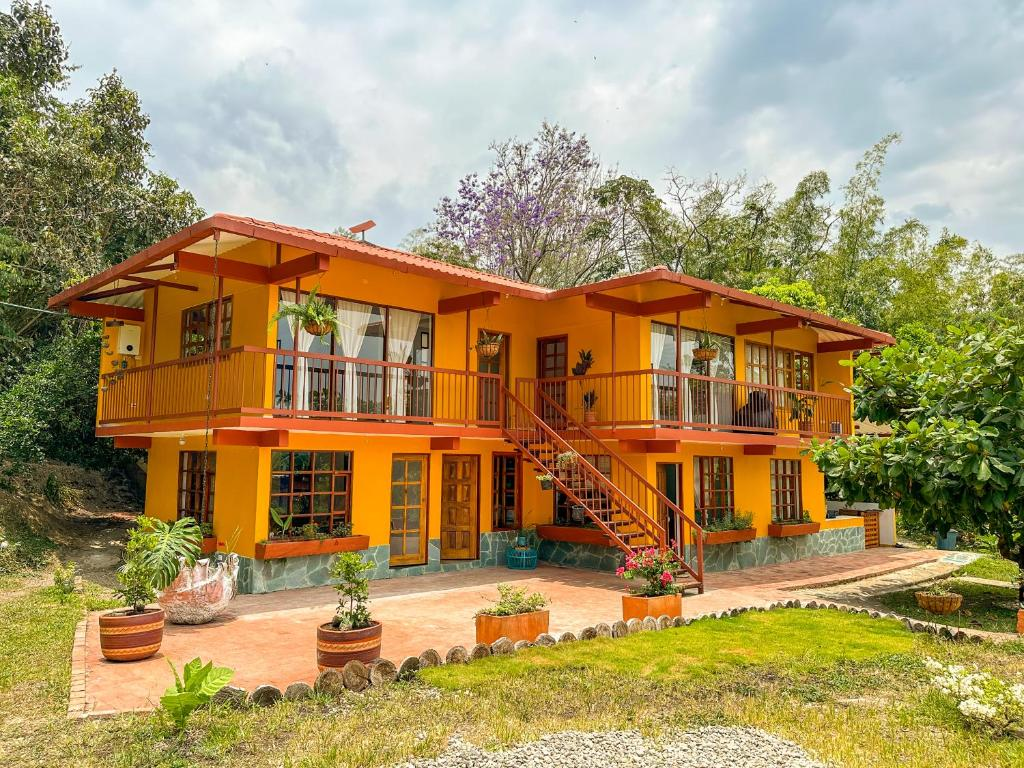House: (46, 188, 926, 638)
